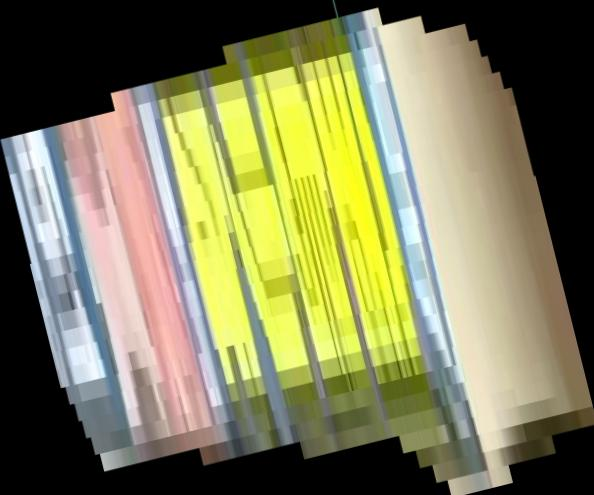flat: (1, 1, 594, 495)
